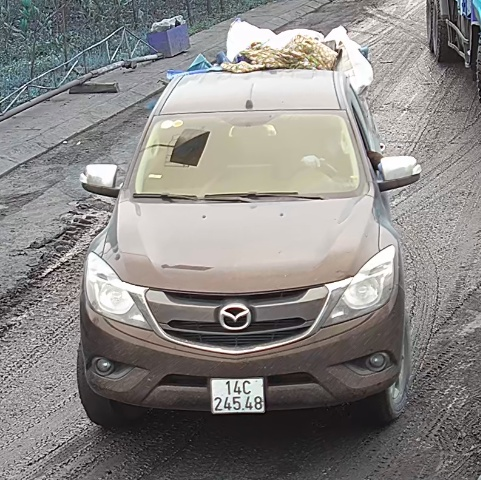vehicle plate: (205, 371, 265, 412)
